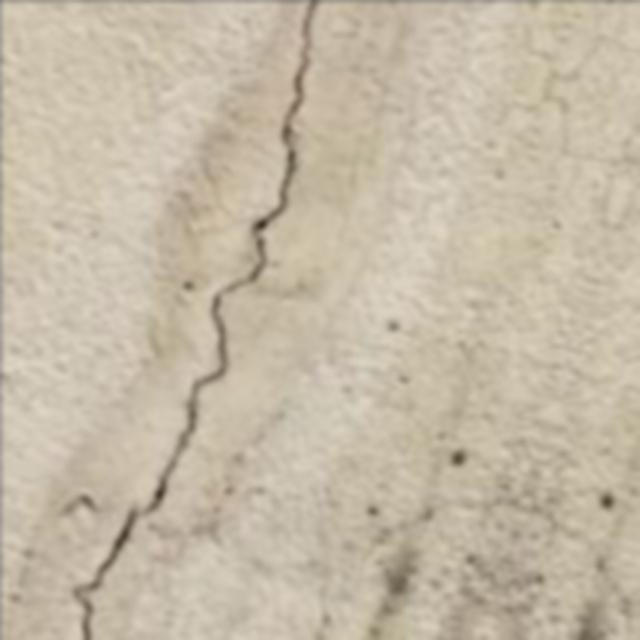SurfaceCrack: (66, 0, 340, 640)
